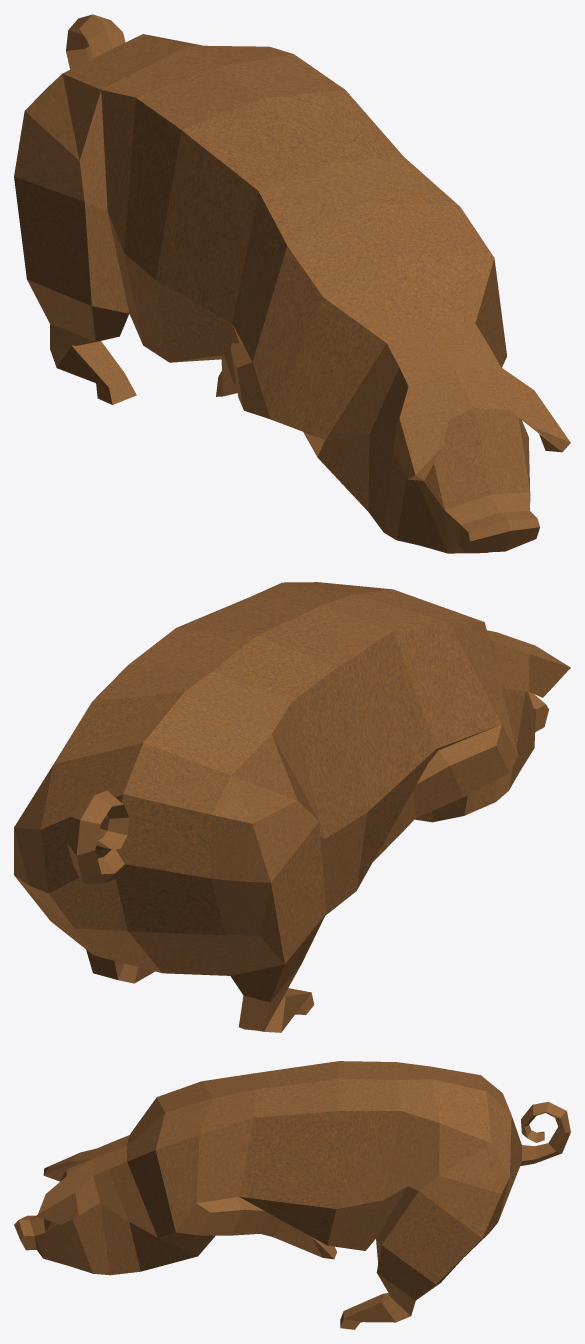
The model's file is Pig_000005.obj.
3 renders of one model, top to bottom at view 1: azimuth 30°, elevation 25°; view 2: azimuth 150°, elevation 25°; view 3: azimuth 270°, elevation 25°, orthographic. The views are drawn at different scales.
Parts seen in each view (by area): view 1: Pig_Cylinder; view 2: Pig_Cylinder; view 3: Pig_Cylinder.
Part boxes in pixels (x1,y1,x2,y2): Pig_Cylinder: (14,14,570,553); Pig_Cylinder: (14,582,570,1032); Pig_Cylinder: (14,1061,570,1329).
Size of the model in its own units: 3.38 by 4.18 by 9.64.
Materials: 1 (1 with a texture image).
